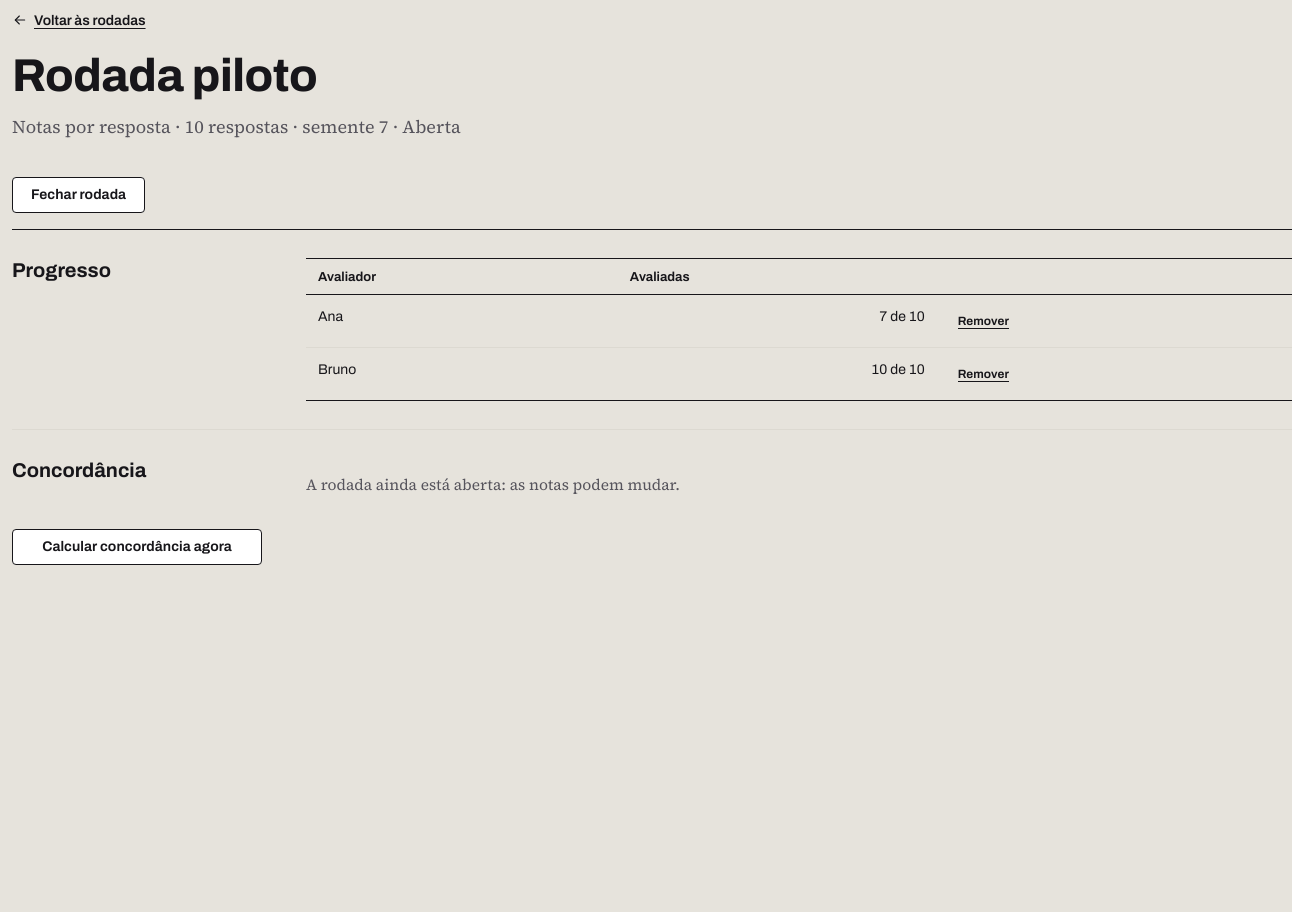
Test case: RodadaDetailPage › computes the Concordância of an open Rodada only on demand
Click the button "Calcular concordância agora": click(137, 547) [12,529,262,565]
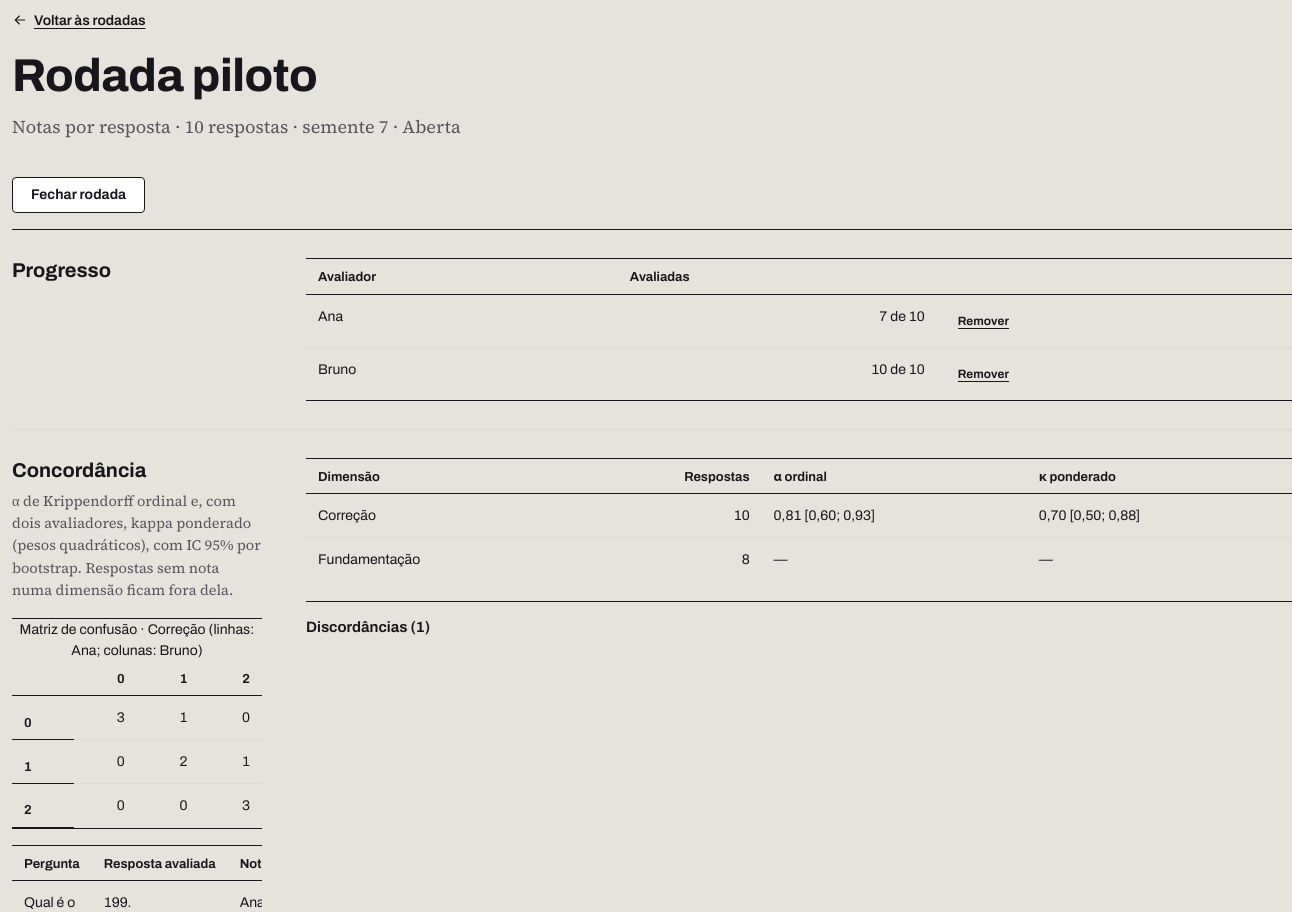
Expected: the text "0,81 [0,60; 0,93]" is shown, [762,493,1027,537]
